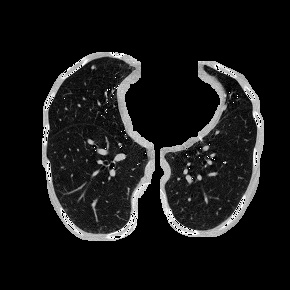PN: (90, 65, 94, 69)
